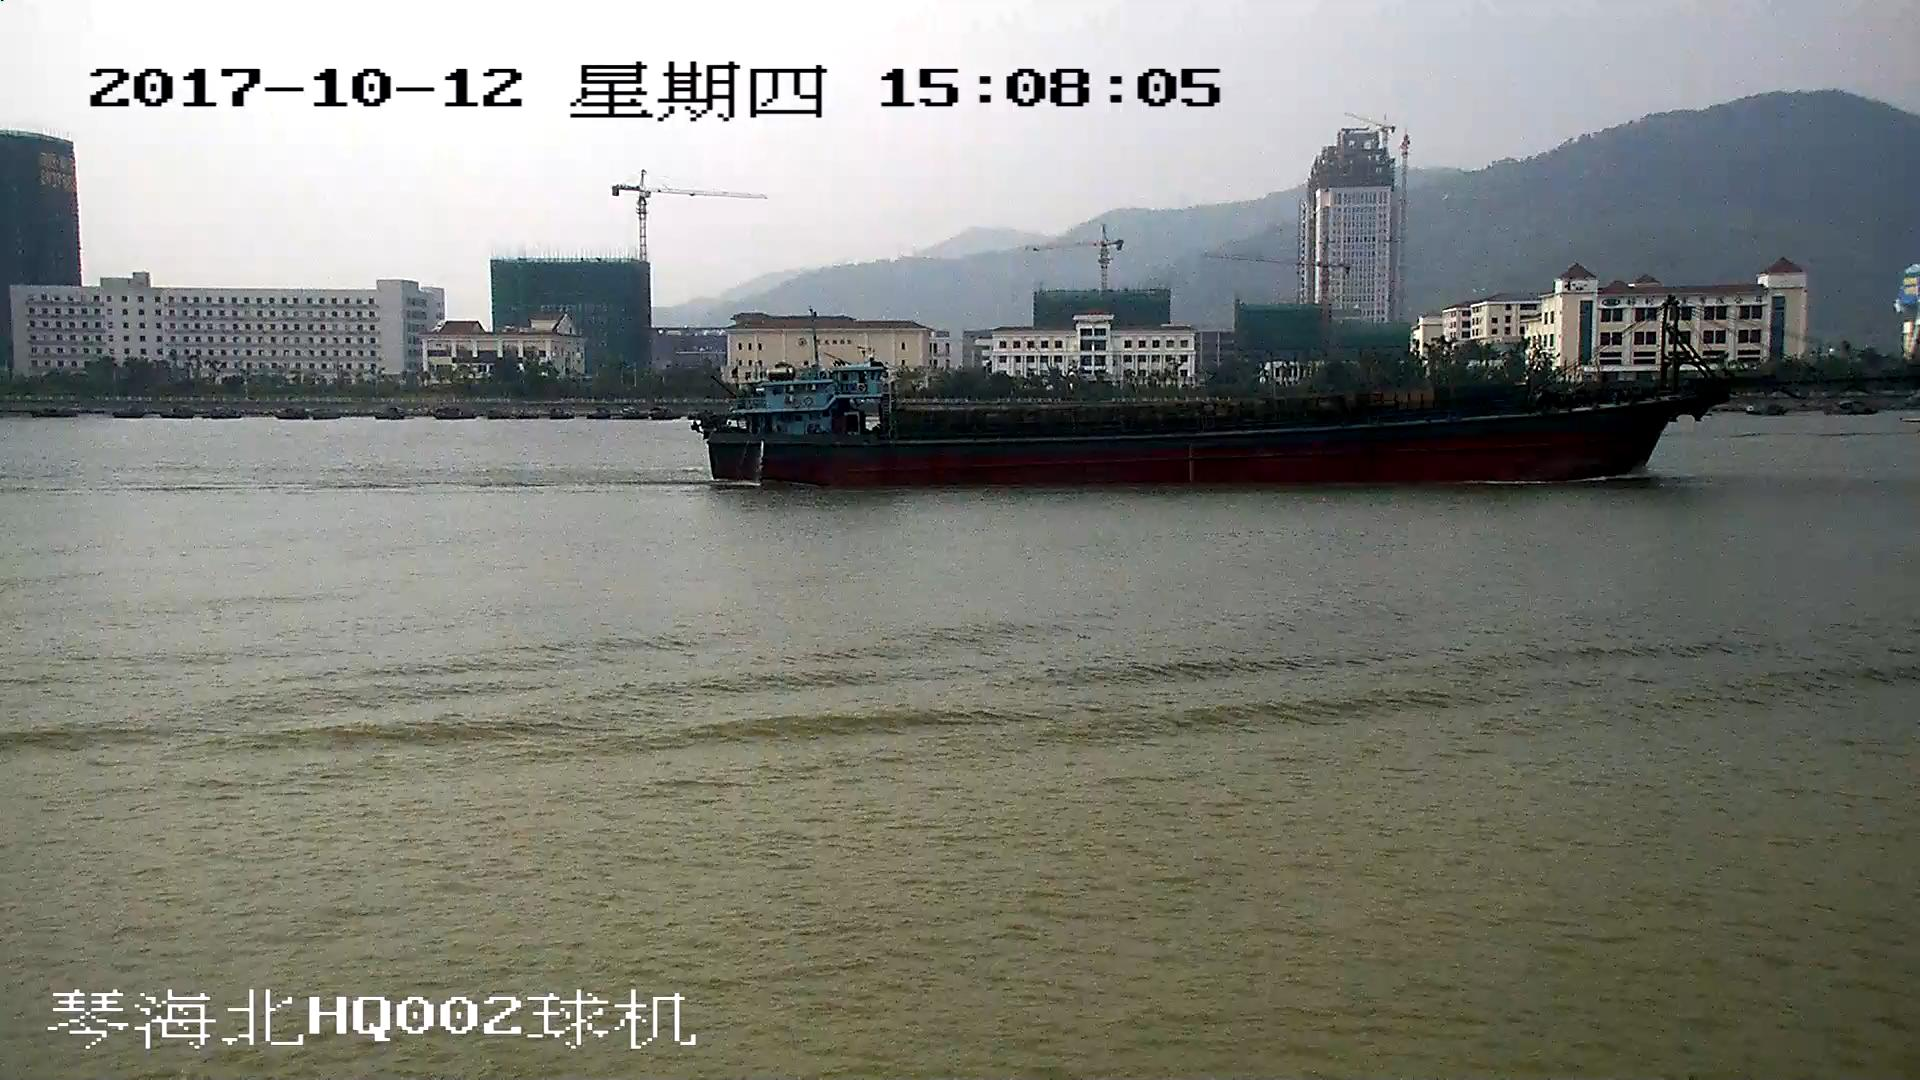bulk cargo carrier: (701, 294, 1920, 485)
